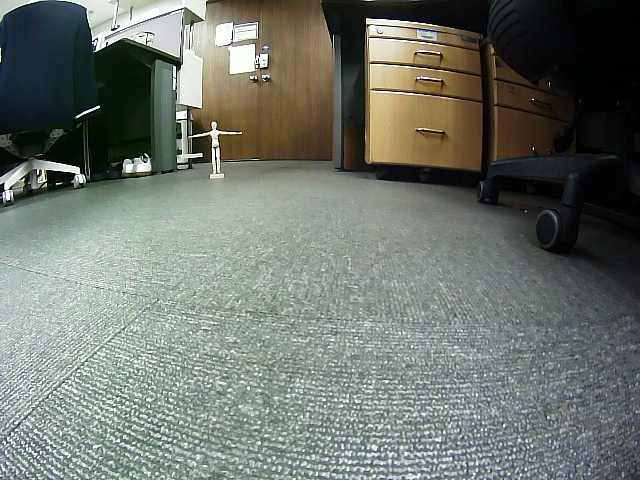person: (188, 120, 242, 174)
